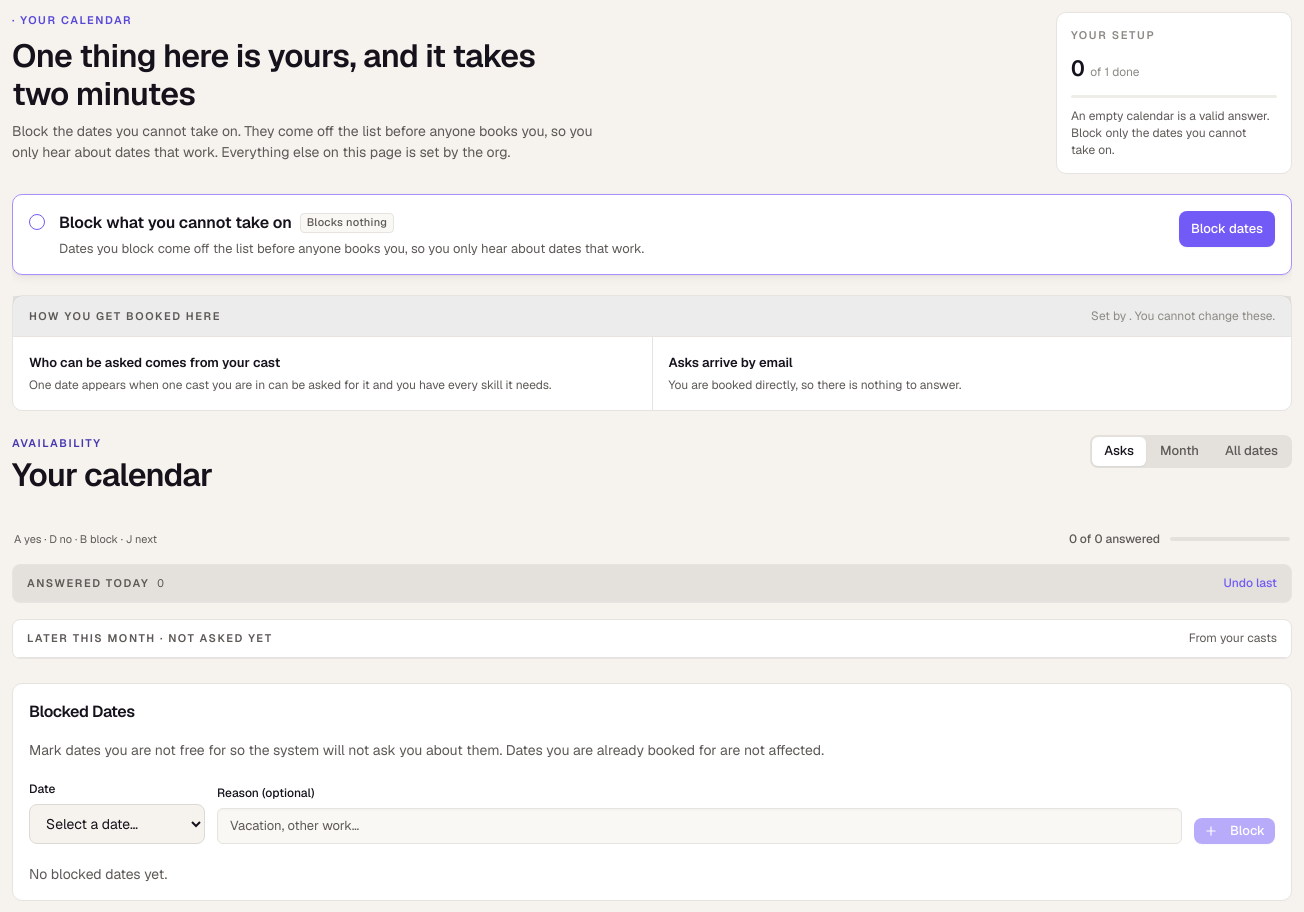
Test case: AvailabilityPage calendar-surface flow-aware status wording (Task 18) › direct flow: the All dates lens shows the flow-aware wording, not the fixed ARTIST_TONES default
Click the tab "All dates".
click(1252, 451)  # box [1213,436,1290,466]
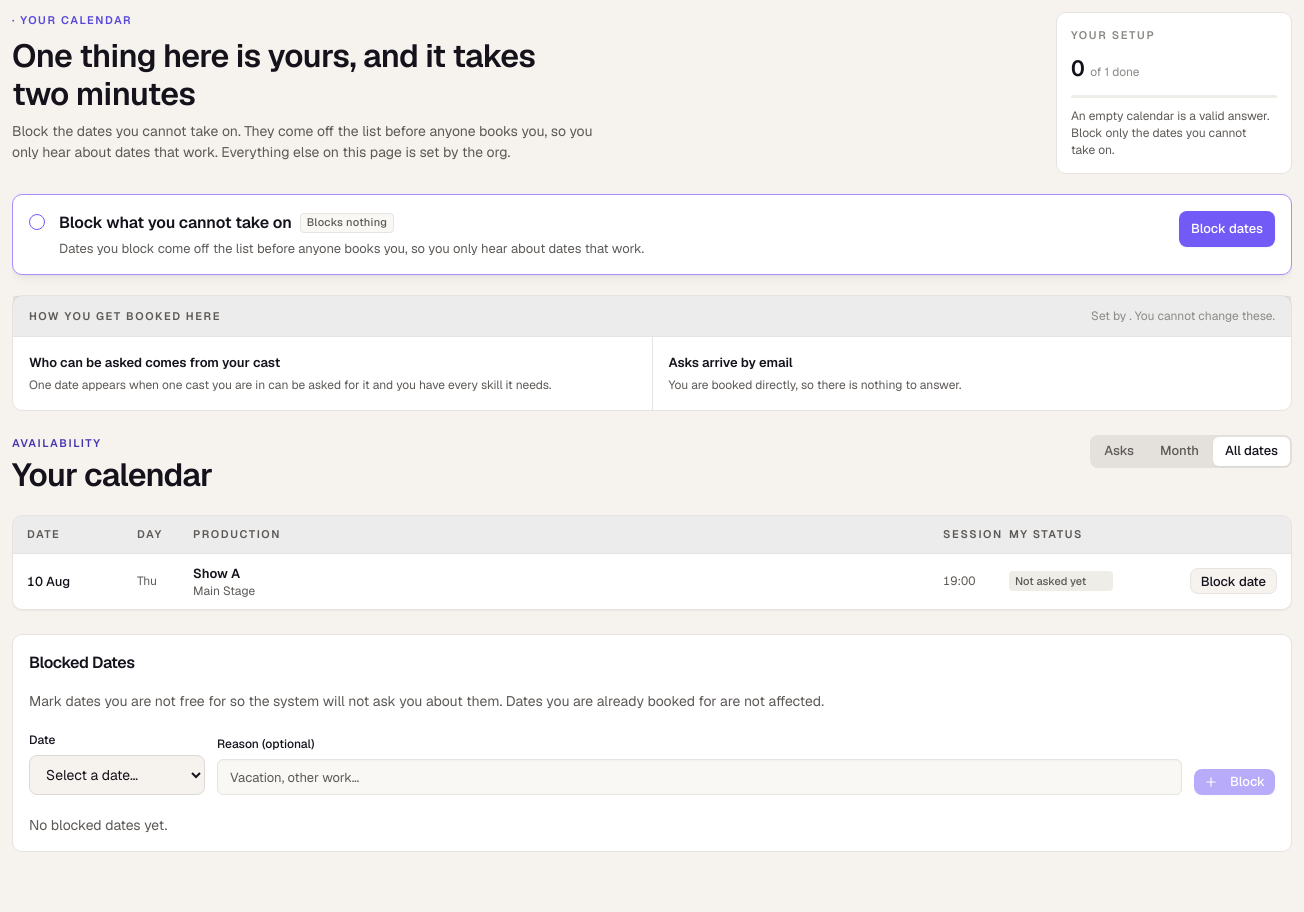
Expected: the element with test id "all-dates-row-sd-1" does not show "Not offered", [193,564,1277,599]
Expected: the element with test id "all-dates-row-sd-1" shows "Not asked yet", [1015,574,1086,588]
